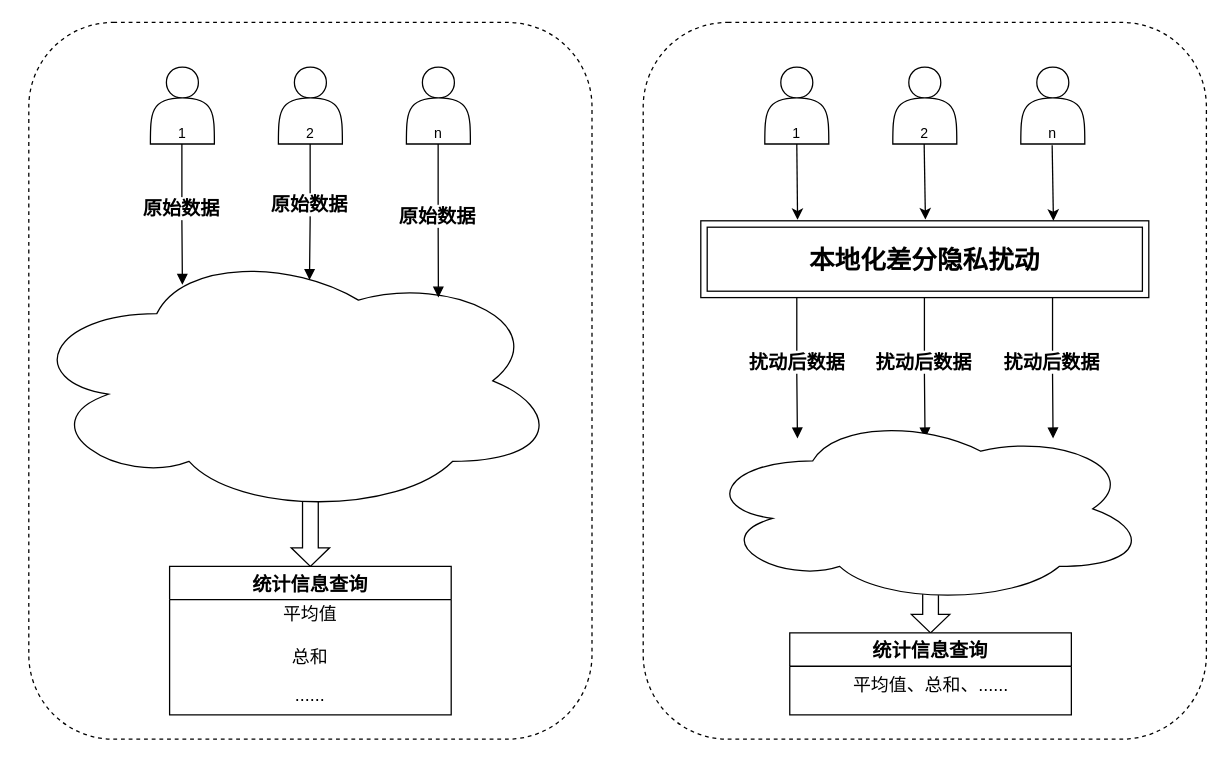
Image size: 1229x762. Some labels were removed from this diagram. Each missing label, with the centre of its shape:
"数据中心 中心化差分隐私处理数据" goes at (290,380).
"数据中心 聚合统计扰动后数据" goes at (924,508).
